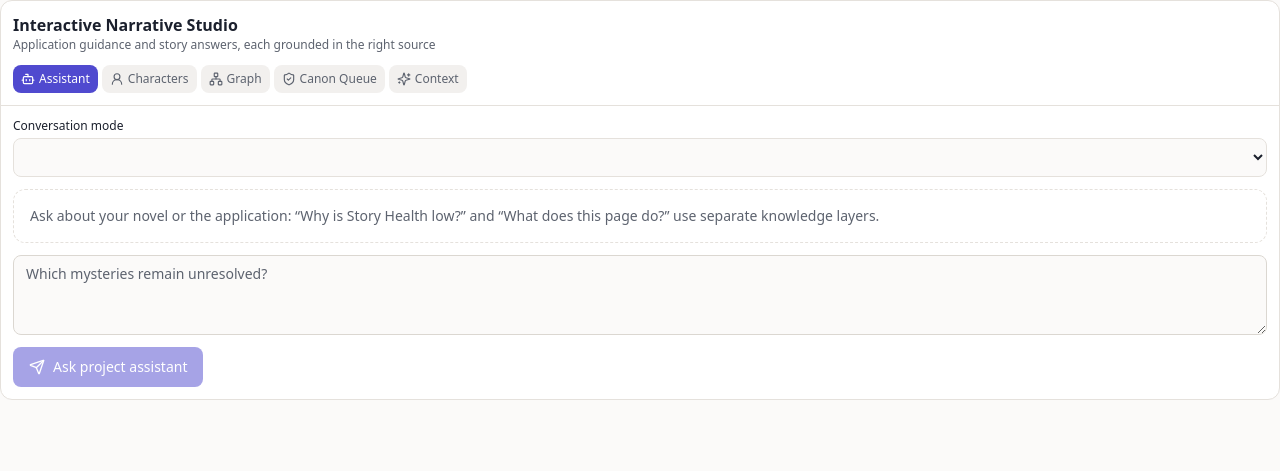
Scenario: shows the enforced character awareness boundary
Click the button with test id "interactive-tab-characters" at (149, 79), box [102,65,197,93]
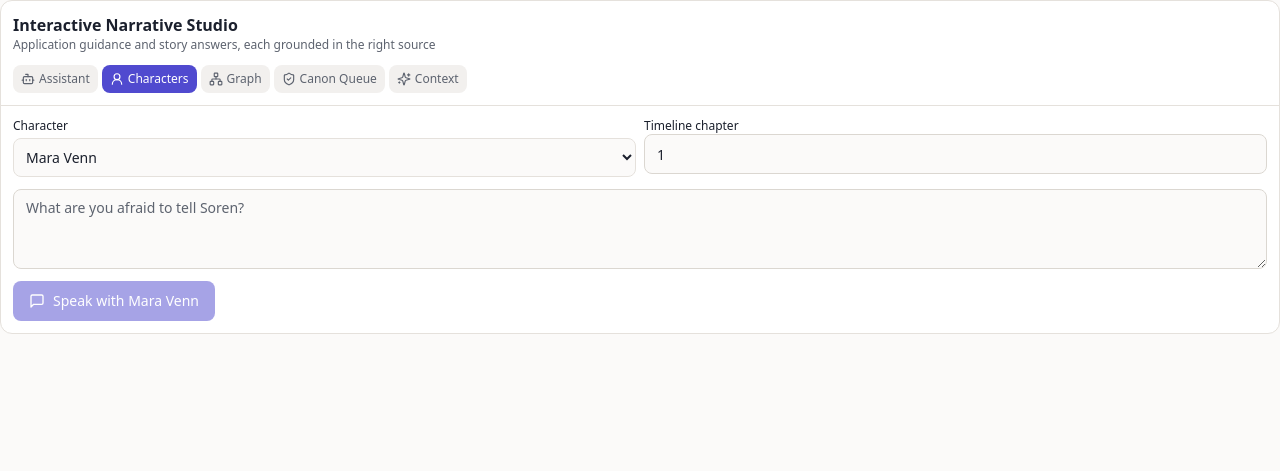
Now the dropdown named "Conversation character" shows "Mara Venn", box [13,138,636,177]
Replace the text in the number field named "Conversation timeline chapter" with "20" at (956, 154), box [644,134,1267,174]
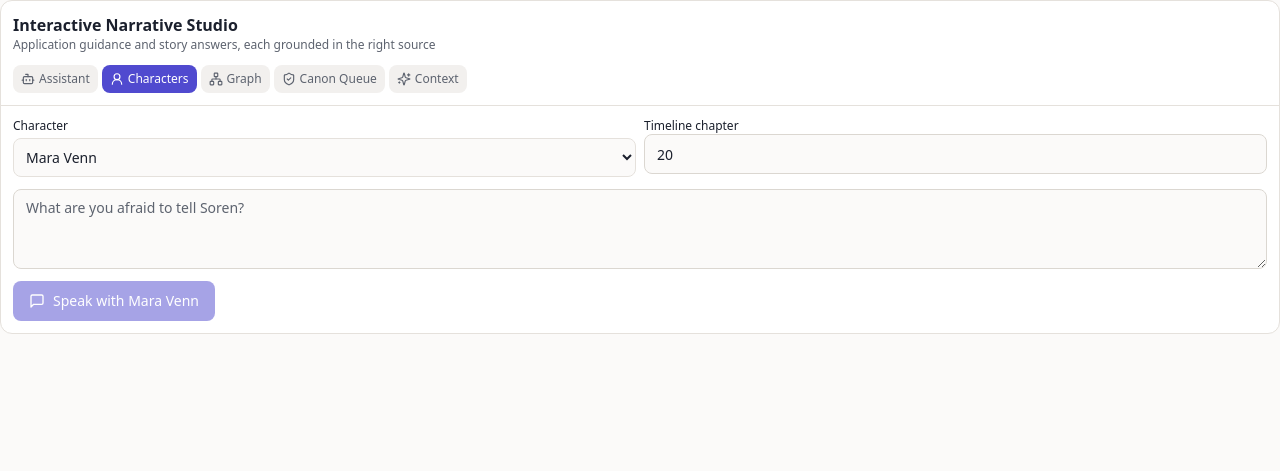
Type "What do you know?" into the text box named "Message character" at (640, 229), box [13,189,1267,269]
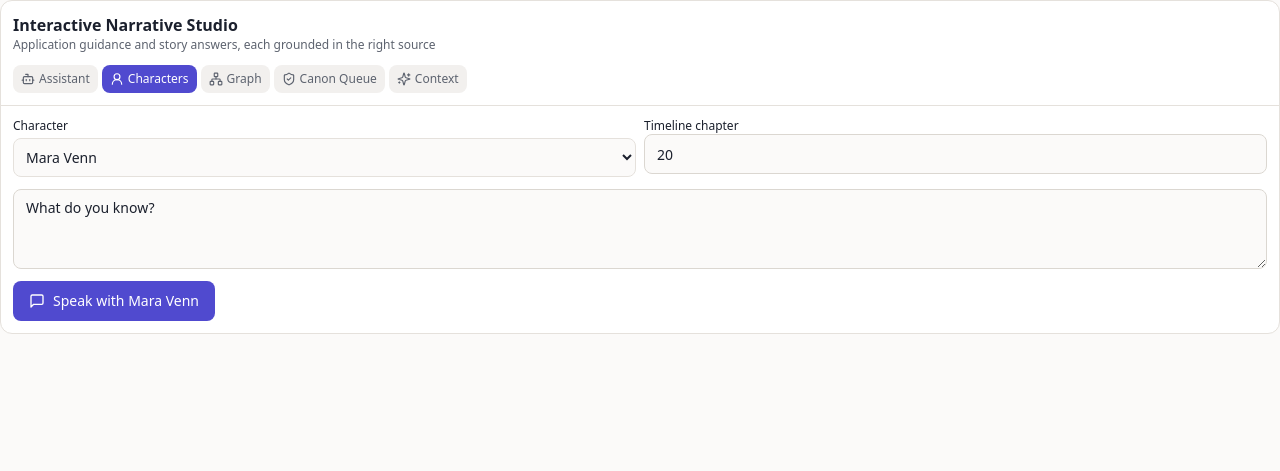
Click the button with test id "send-character-message" at (114, 301), box [13,281,215,321]
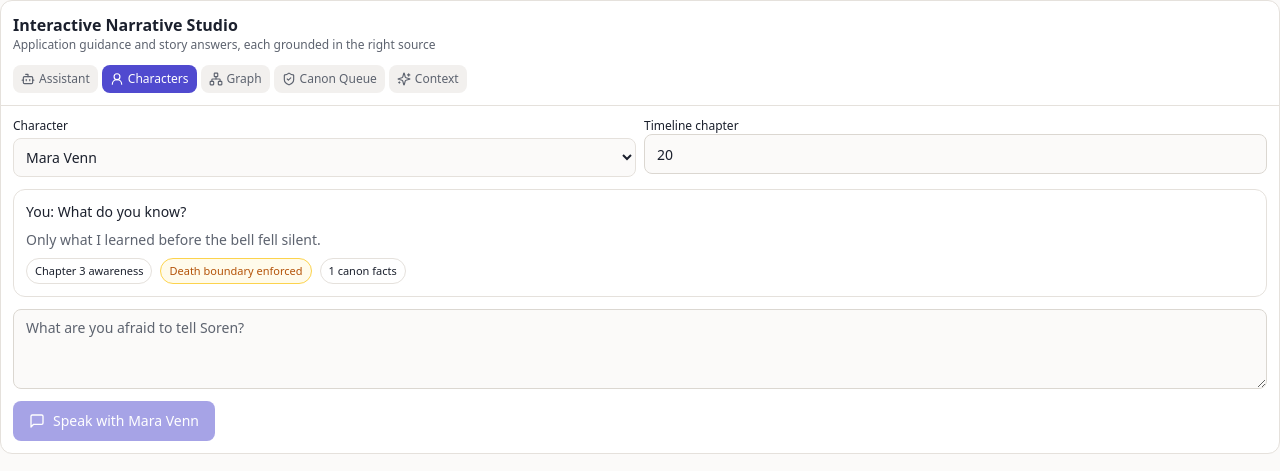
Now the text "Only what I learned before the bell fell silent." is shown, box [26,230,321,249]
Now the text "Chapter 3 awareness" is shown, box [26,258,152,284]
Now the text "Death boundary enforced" is shown, box [160,258,312,284]
